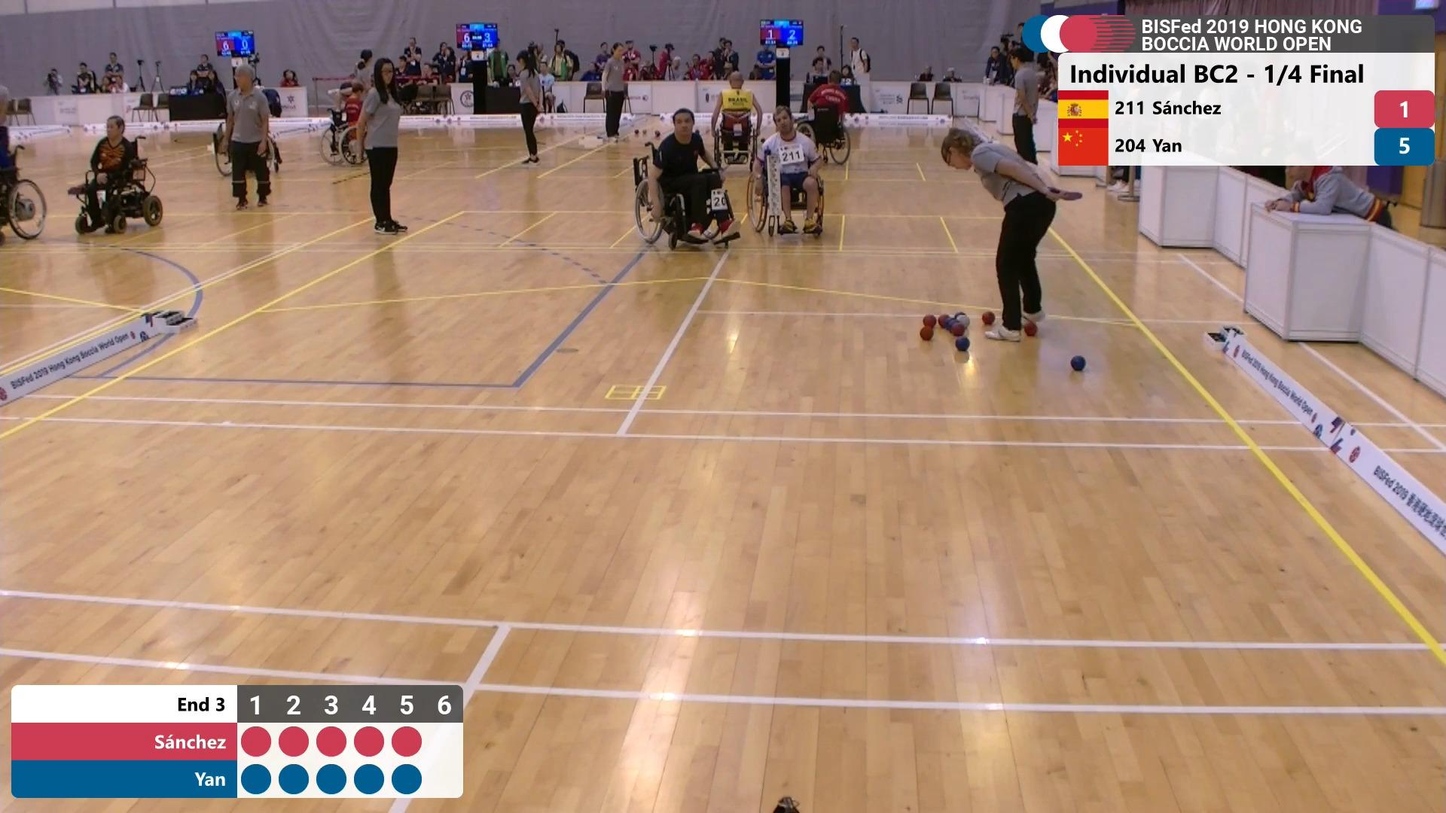blue_ball: (1071, 356, 1086, 371), (956, 337, 970, 351)
red_ball: (920, 327, 933, 340), (923, 315, 936, 328), (954, 324, 965, 337), (939, 314, 950, 327)
white_ball: (958, 316, 969, 328)
